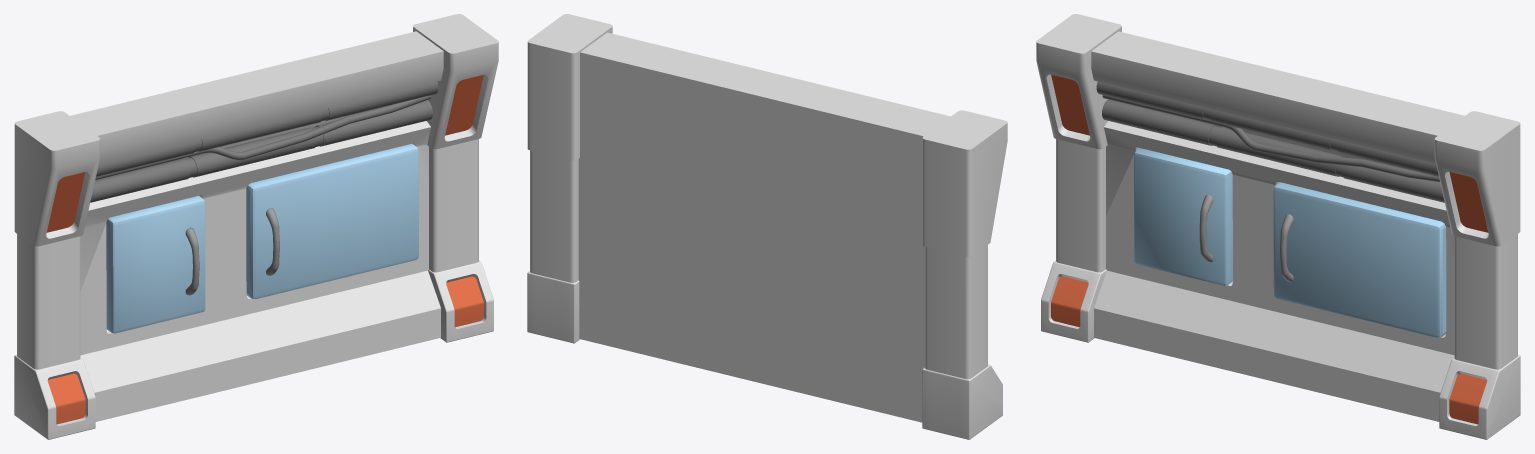
The model's file is wall1-3.glb.
3 views of the same model, side by side, from view 1: azimuth 30°, elevation 25°; view 2: azimuth 150°, elevation 25°; view 3: azimuth 330°, elevation 25° (orthographic).
Visible parts, largest first — view 1: Cube.005, Cube, Cube.001, pipeline.002, pipeline.001, pipeline, handle, handle.001; view 2: Cube.005, Cube; view 3: Cube.005, Cube, Cube.001, pipeline.002, pipeline.001, pipeline, handle, handle.001.
Boxes of the visible parts, x1=… form: Cube.005: x1=70, y1=31, x2=443, y2=421; Cube: x1=14, y1=14, x2=498, y2=439; Cube.001: x1=106, y1=143, x2=418, y2=333; pipeline.002: x1=90, y1=100, x2=432, y2=202; pipeline.001: x1=96, y1=81, x2=438, y2=176; pipeline: x1=95, y1=95, x2=431, y2=179; handle: x1=185, y1=227, x2=199, y2=295; handle.001: x1=266, y1=208, x2=279, y2=275; Cube.005: x1=578, y1=32, x2=950, y2=422; Cube: x1=527, y1=14, x2=1007, y2=439; Cube.005: x1=1091, y1=31, x2=1464, y2=421; Cube: x1=1036, y1=14, x2=1520, y2=439; Cube.001: x1=1134, y1=148, x2=1446, y2=337; pipeline.002: x1=1102, y1=99, x2=1444, y2=202; pipeline.001: x1=1096, y1=81, x2=1438, y2=176; pipeline: x1=1102, y1=95, x2=1439, y2=181; handle: x1=1199, y1=194, x2=1213, y2=262; handle.001: x1=1280, y1=214, x2=1293, y2=282.
Size of the model in its own units: 16.51 by 10.32 by 2.54.
